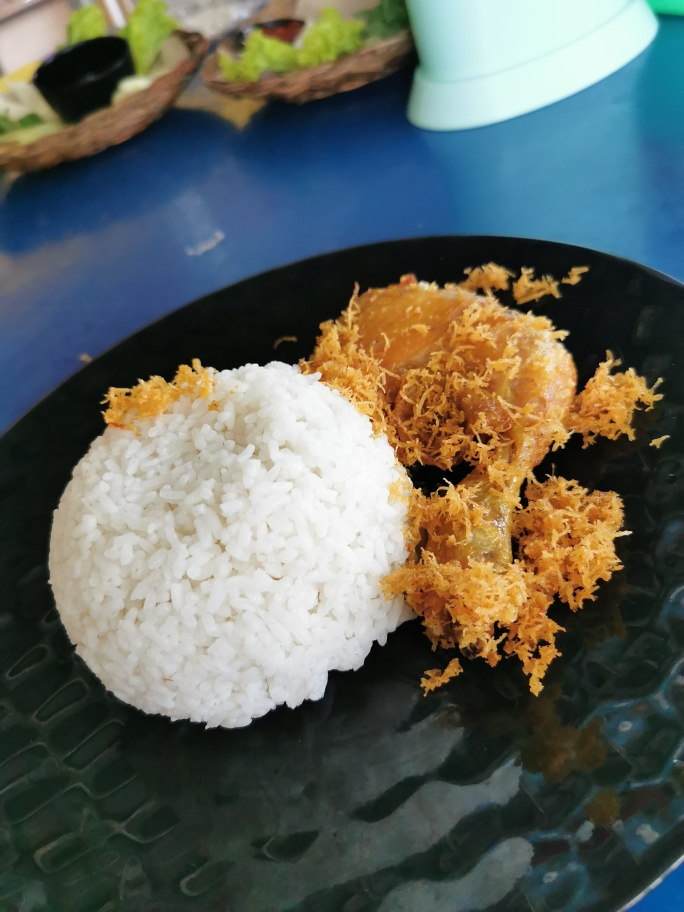ayam goreng: (330, 243, 602, 664)
nasi putih: (20, 351, 428, 776)
